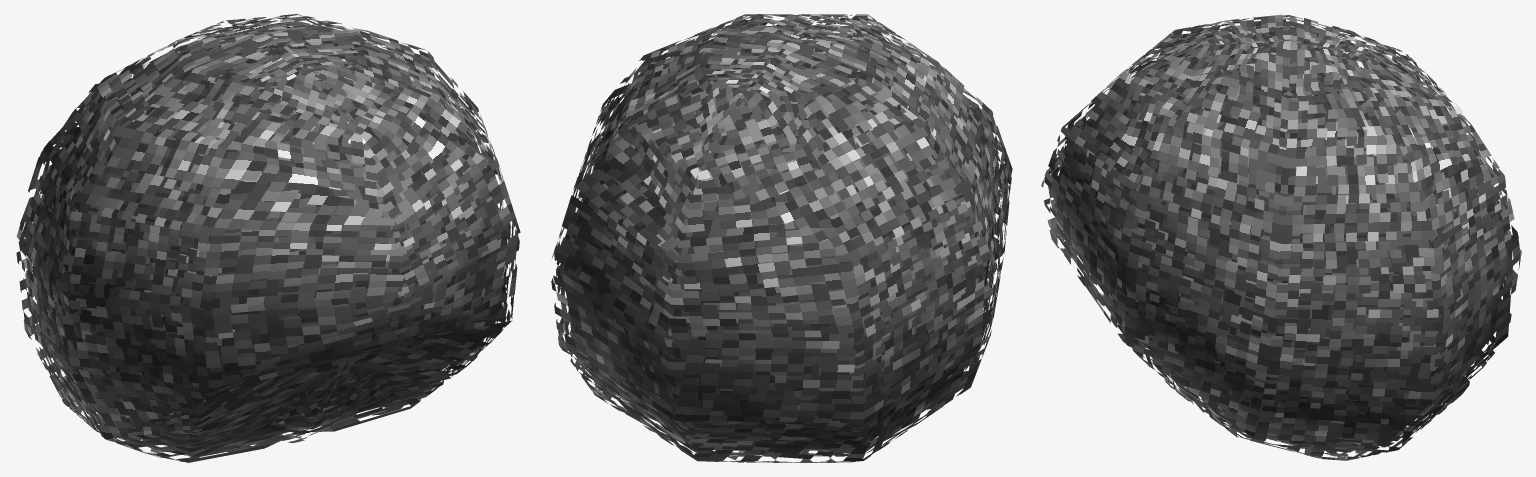
The model's file is f_body011.glb.
3 renders of one model, left to right at view 1: azimuth 30°, elevation 25°; view 2: azimuth 150°, elevation 25°; view 3: azimuth 270°, elevation 25°, orthographic. The views are drawn at different scales.
Size of the model in its own units: 39.44 by 36.05 by 40.63.
Materials: 1 (1 with a texture image).
